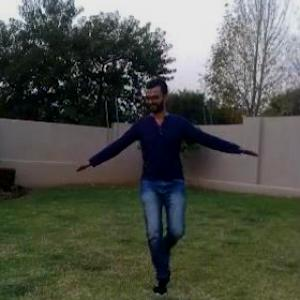land: (75, 60, 299, 299)
